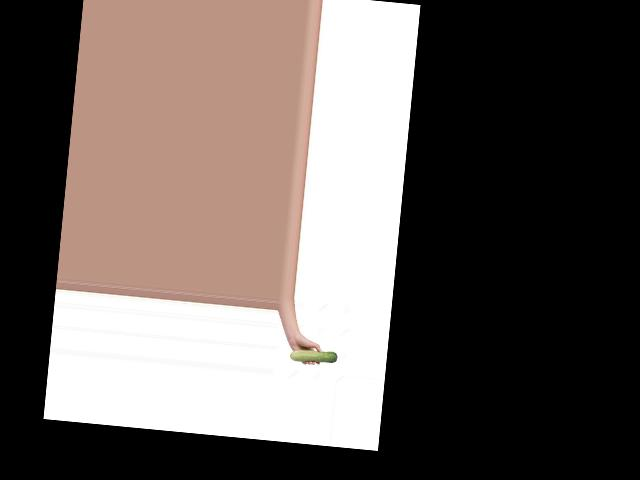cucumber: (289, 346, 338, 364)
